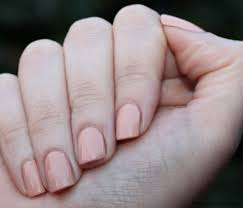hand: (1, 4, 236, 202)
